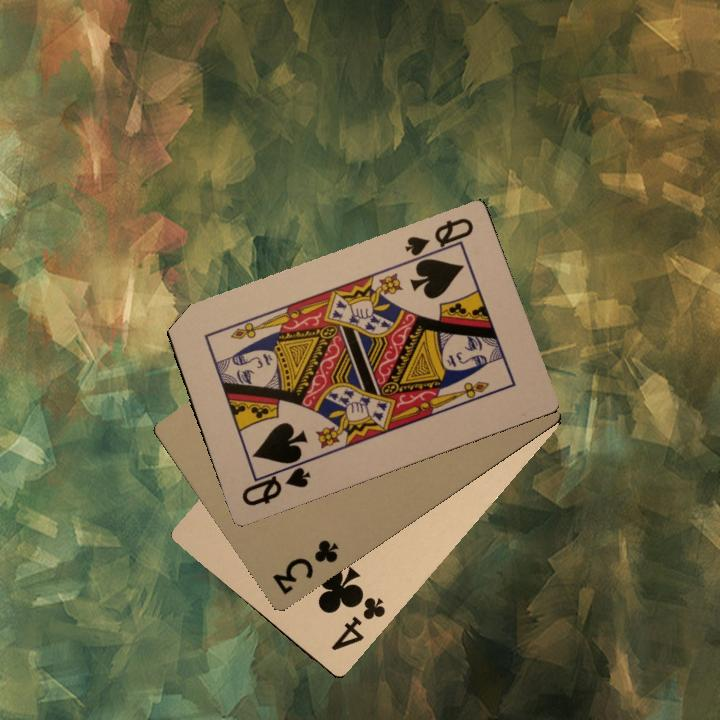3c: (268, 535, 341, 597)
4c: (327, 588, 388, 653)
Qs: (401, 213, 476, 268), (237, 456, 314, 509)
